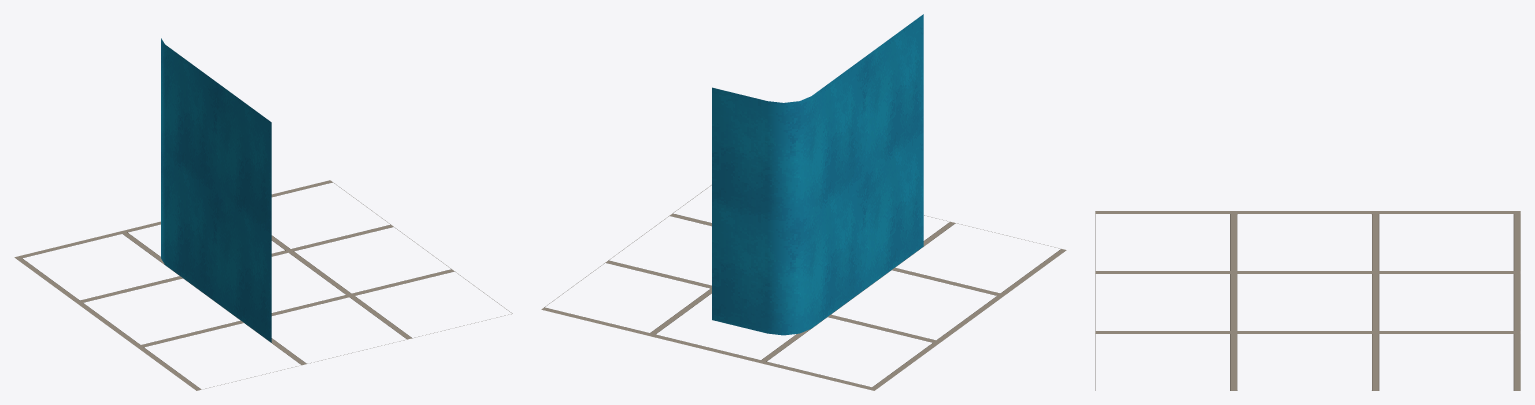
The model's file is Water_Waterfall_Base_Left_1x1.glb.
3 renders of one model, left to right at view 1: azimuth 30°, elevation 25°; view 2: azimuth 150°, elevation 25°; view 3: azimuth 270°, elevation 25°, orthographic. The views are drawn at different scales.
Visible parts, largest first — view 1: Water_Waterfall_Base_Left_1x1, Floor; view 2: Water_Waterfall_Base_Left_1x1, Floor; view 3: Floor.
Boxes of the visible parts, x1,y1,x2,y2 form: Water_Waterfall_Base_Left_1x1: (161,38,271,342); Floor: (14,180,512,390); Water_Waterfall_Base_Left_1x1: (712,14,923,335); Floor: (541,185,1066,390); Floor: (1095,211,1520,390).
Size of the model in its own units: 300 by 200 by 300.
2 materials, 2 textured.
